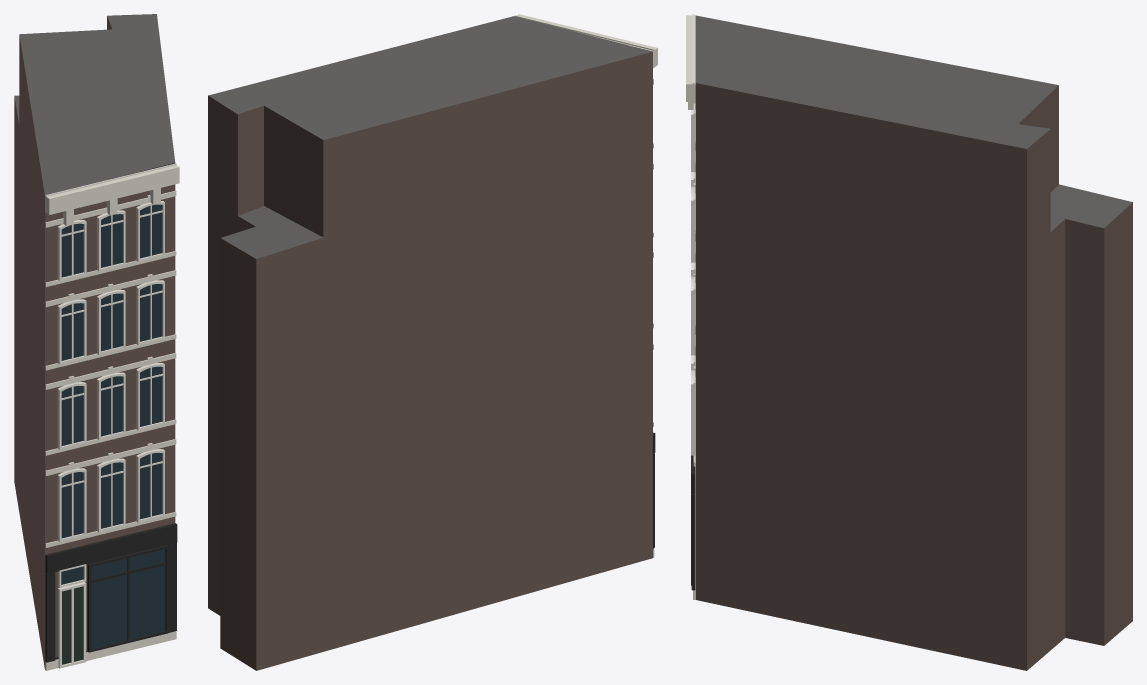
3 views of the same model, side by side, from view 1: azimuth 30°, elevation 25°; view 2: azimuth 150°, elevation 25°; view 3: azimuth 270°, elevation 25° (orthographic). The views are drawn at different scales.
Parts seen in each view (by area): view 1: spec-0363100012182403; view 2: spec-0363100012182403; view 3: spec-0363100012182403.
Part boxes in pixels (x1,y1,x2,y2): spec-0363100012182403: [14, 14, 179, 670]; spec-0363100012182403: [208, 14, 657, 670]; spec-0363100012182403: [686, 14, 1132, 670].
Size of the model in its own units: 9.46 by 16.43 by 12.75.
